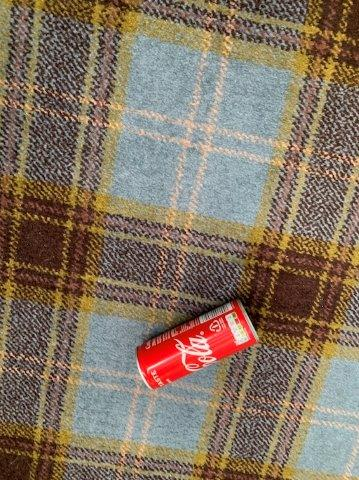kaleng: (138, 301, 258, 388)
